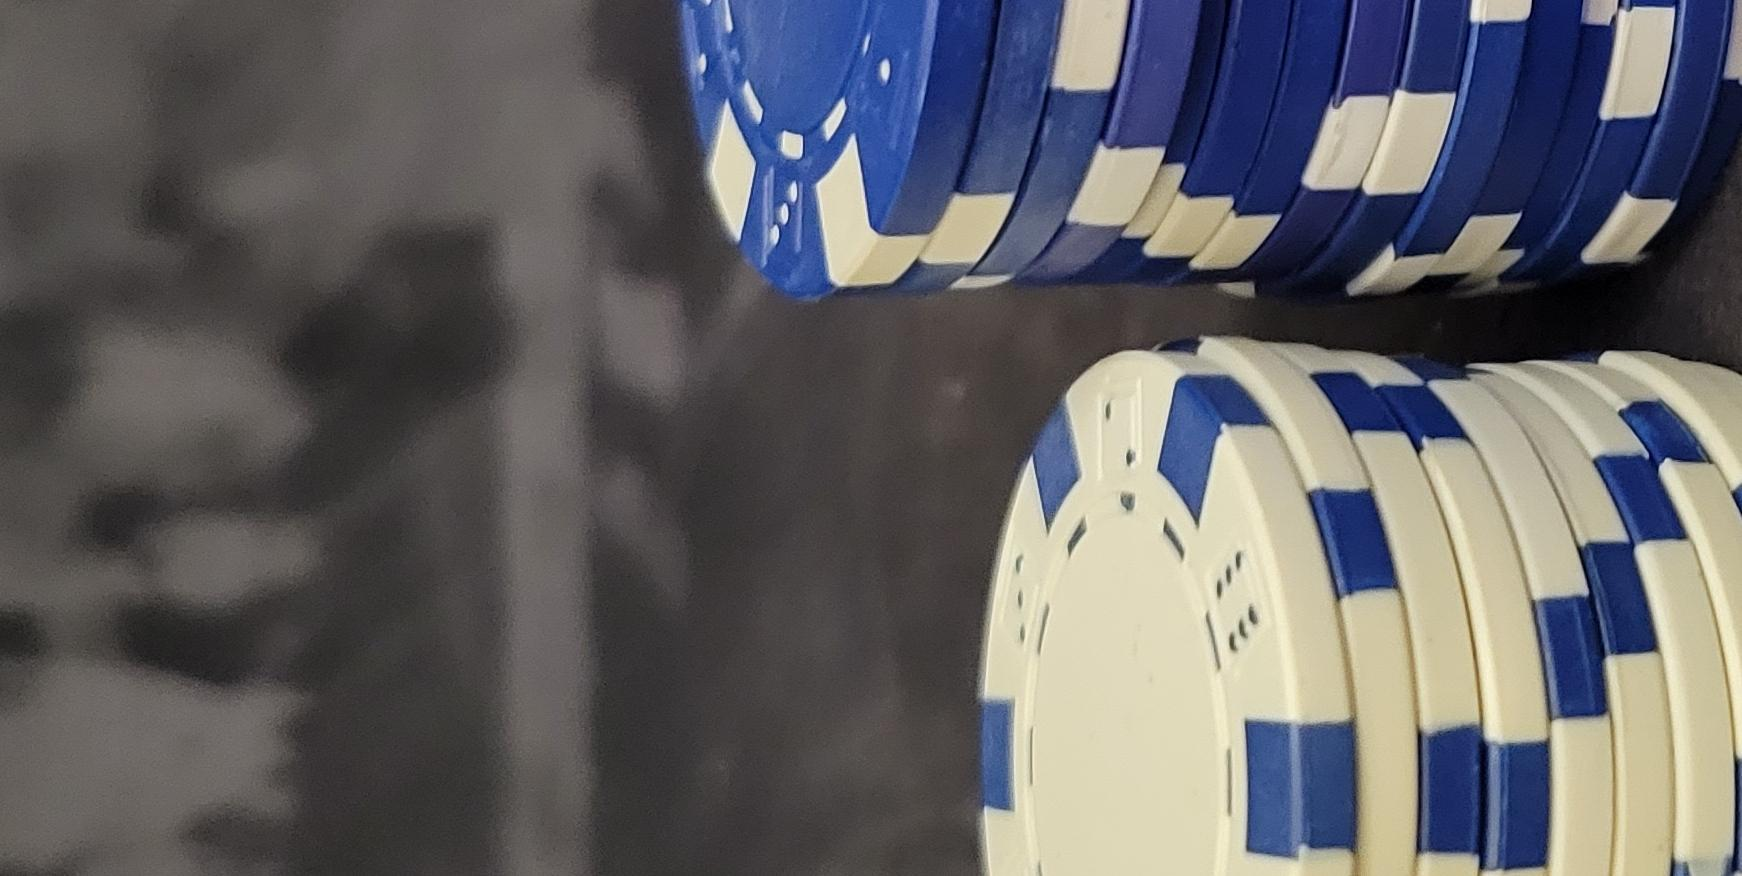Chip: (1, 531, 1204, 876)
